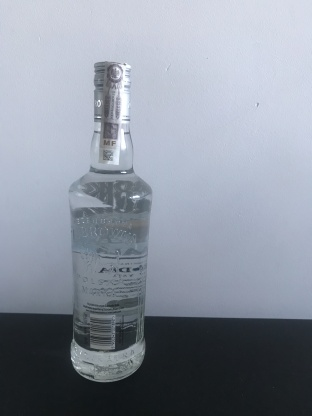nakretka: (90, 56, 133, 126)
